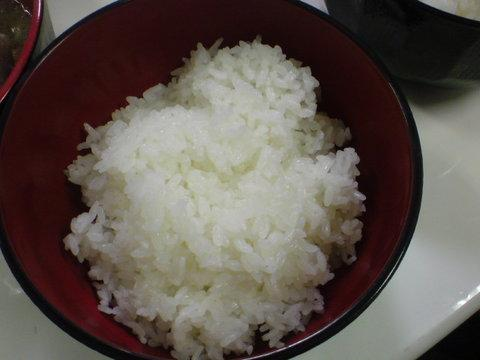rice: (64, 38, 365, 359)
